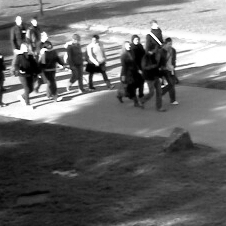person: (138, 42, 165, 111), (86, 33, 113, 91), (15, 42, 38, 107), (159, 36, 179, 106), (41, 38, 62, 101), (65, 32, 86, 93), (119, 39, 137, 104), (10, 14, 27, 59), (128, 33, 145, 73), (146, 19, 166, 52), (26, 16, 42, 51), (1, 46, 7, 107), (37, 30, 51, 49)
